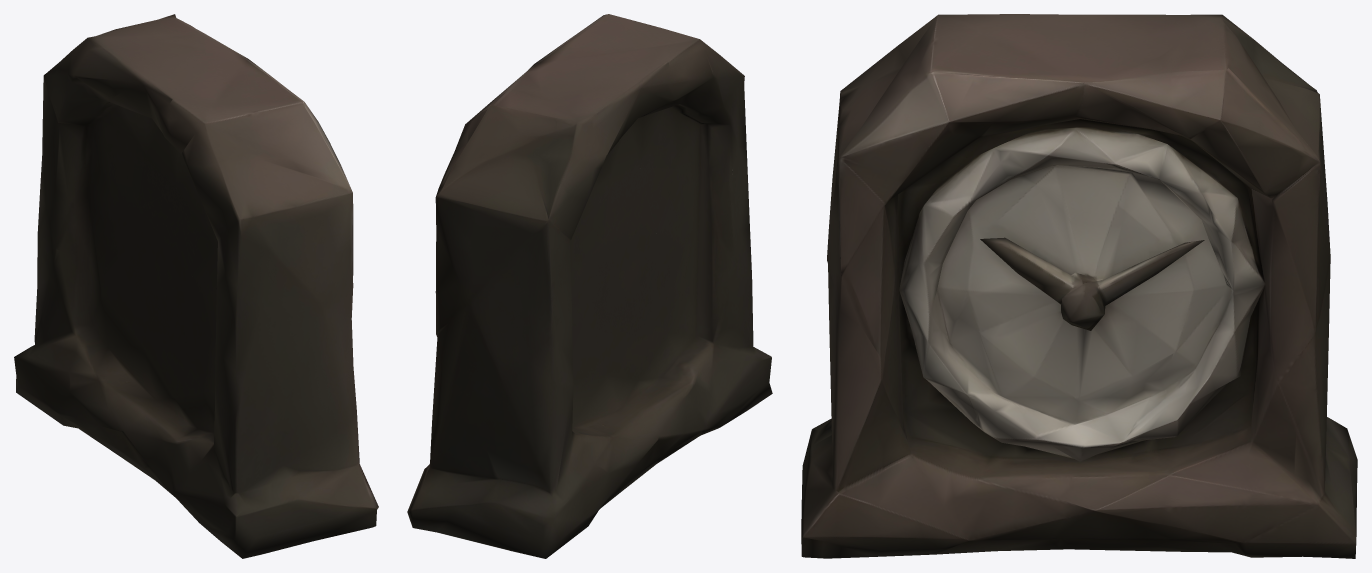
The model's file is low-poly+clock+3d+model.glb.
The picture shows the model from 3 angles, left to right: view 1: azimuth 30°, elevation 25°; view 2: azimuth 150°, elevation 25°; view 3: azimuth 270°, elevation 25°; orthographic projection. The views are drawn at different scales.
Parts seen in each view (by area): view 1: tripo_node_bd244183-1dbd-4870-ad40-4eec3b9c2d34; view 2: tripo_node_bd244183-1dbd-4870-ad40-4eec3b9c2d34; view 3: tripo_node_bd244183-1dbd-4870-ad40-4eec3b9c2d34.
Boxes of the visible parts, box(x1,y1,x2,y2) form: tripo_node_bd244183-1dbd-4870-ad40-4eec3b9c2d34: box(14, 14, 378, 558); tripo_node_bd244183-1dbd-4870-ad40-4eec3b9c2d34: box(407, 14, 772, 558); tripo_node_bd244183-1dbd-4870-ad40-4eec3b9c2d34: box(801, 14, 1357, 558).
Size of the model in its own units: 0.3775 by 0.9464 by 1.
Materials: 1 (1 with a texture image).
